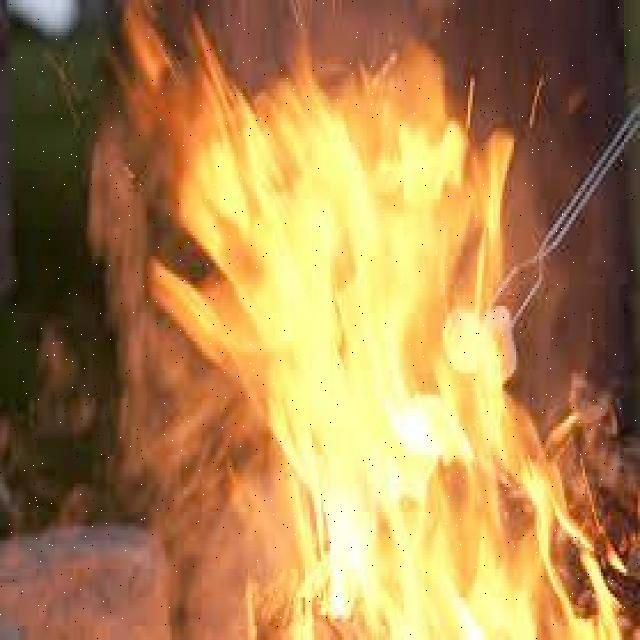fire: (142, 40, 626, 640)
